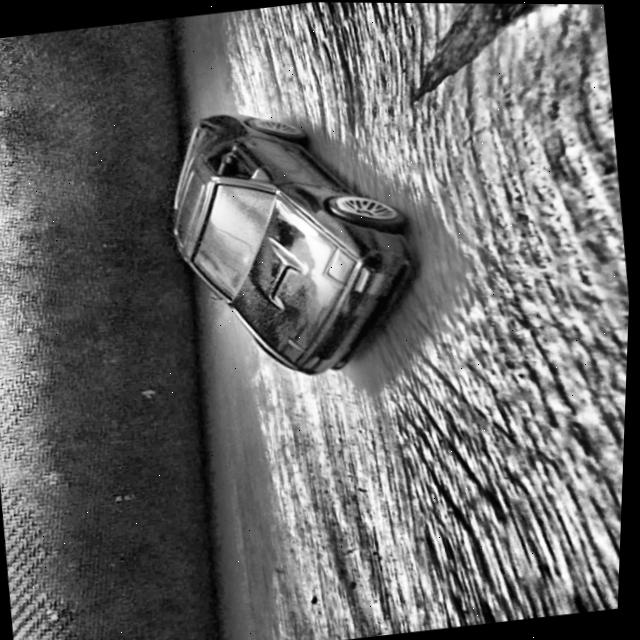car: (155, 90, 433, 390)
